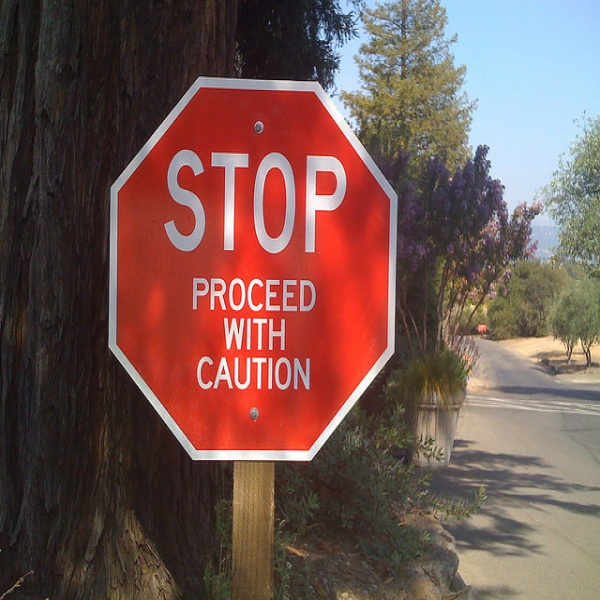stop: (403, 189, 482, 347)
